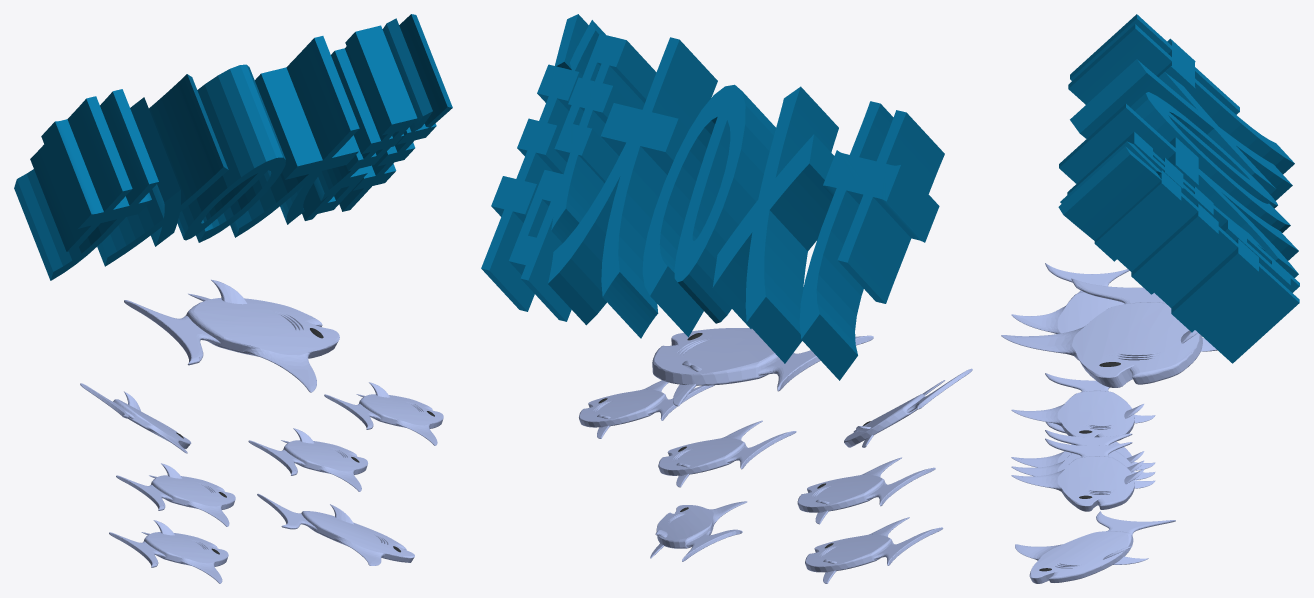
Rendered from tinker.obj.
The picture shows the model from 3 angles, left to right: view 1: azimuth 30°, elevation 25°; view 2: azimuth 150°, elevation 25°; view 3: azimuth 270°, elevation 25°; orthographic projection. The views are drawn at different scales.
Visible parts, largest first — view 1: group_0_30377, group_0_11452141; view 2: group_0_30377, group_0_11452141; view 3: group_0_30377, group_0_11452141.
Part boxes in pixels (x1,y1,x2,y2): group_0_30377: (14,14,452,280); group_0_11452141: (80,279,443,583); group_0_30377: (481,14,944,380); group_0_11452141: (579,328,972,583); group_0_30377: (1058,14,1299,363); group_0_11452141: (1001,263,1217,583).
Bounding box in the file's own units: 30 × 42 × 24.74.
